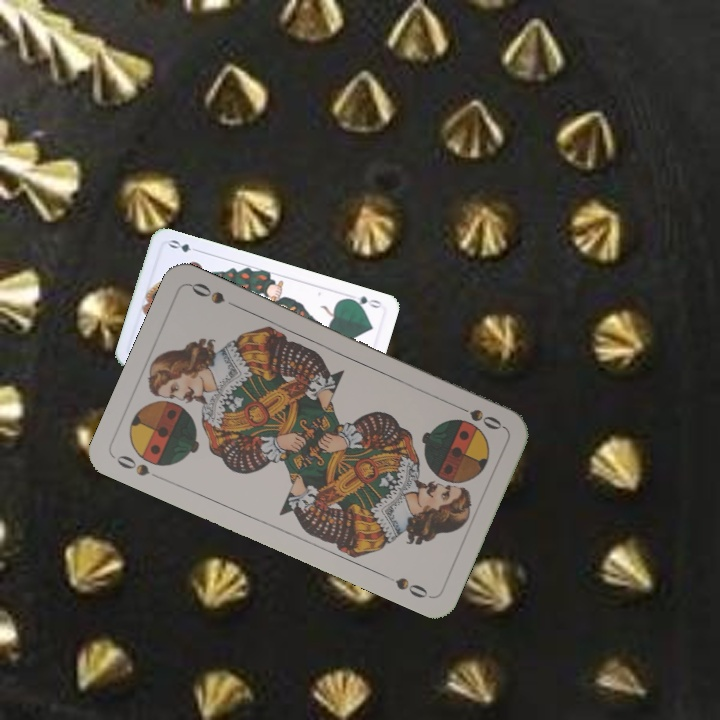GO: (343, 292, 384, 311)
SO: (450, 400, 506, 433), (112, 451, 153, 479)
